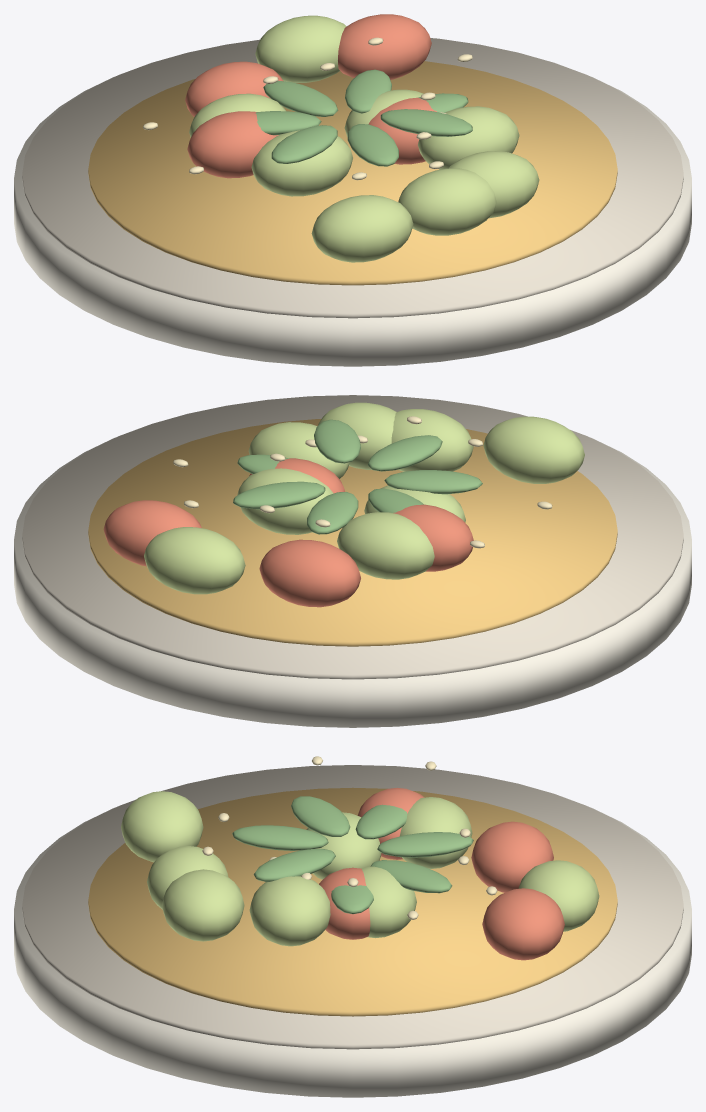
The model's file is mise-plated-blender-candidate.glb.
3 renders of one model, top to bottom at view 1: azimuth 30°, elevation 25°; view 2: azimuth 150°, elevation 25°; view 3: azimuth 270°, elevation 25°, orthographic.
Visible parts, largest first — view 1: Sauce centre, Raised plate lip, Ceramic plate, Ingredient 07, Ingredient 02, Ingredient 03, Ingredient 11, Ingredient 09, Ingredient 04, Ingredient 05, Ingredient 10, Ingredient 06 (+10 smaller); view 2: Sauce centre, Raised plate lip, Ceramic plate, Ingredient 07, Ingredient 11, Ingredient 06, Ingredient 01, Ingredient 03, Ingredient 02, Ingredient 09, Ingredient 08, Ingredient 10 (+10 smaller); view 3: Raised plate lip, Sauce centre, Ceramic plate, Ingredient 03, Ingredient 10, Ingredient 05, Ingredient 07, Ingredient 06, Ingredient 11, Ingredient 01, Ingredient 08, Ingredient 02 (+10 smaller).
Part boxes in pixels (x1,y1,x2,y2): Sauce centre: (88, 61, 617, 285); Raised plate lip: (22, 38, 683, 318); Ceramic plate: (14, 76, 691, 366); Ingredient 07: (311, 195, 413, 262); Ingredient 02: (398, 168, 496, 235); Ingredient 03: (338, 14, 431, 79); Ingredient 11: (255, 15, 346, 82); Ingredient 09: (187, 111, 278, 178); Ingredient 04: (251, 130, 352, 196); Ingredient 05: (418, 106, 519, 169); Ingredient 10: (448, 151, 539, 218); Ingredient 06: (185, 61, 283, 116); Sauce centre: (88, 419, 617, 646); Raised plate lip: (22, 395, 683, 679); Ceramic plate: (14, 437, 691, 727); Ingredient 07: (483, 416, 584, 483); Ingredient 11: (144, 527, 245, 594); Ingredient 06: (259, 539, 360, 607); Ingredient 01: (337, 512, 434, 579); Ingredient 03: (103, 500, 201, 566); Ingredient 02: (391, 409, 473, 471); Ingredient 09: (393, 504, 473, 571); Ingredient 08: (237, 468, 333, 534); Ingredient 10: (318, 402, 396, 469); Raised plate lip: (22, 765, 683, 1049); Sauce centre: (88, 787, 617, 1016); Ceramic plate: (14, 807, 691, 1097); Ingredient 03: (482, 888, 564, 960); Ingredient 10: (162, 869, 244, 941); Ingredient 05: (249, 876, 330, 946); Ingredient 07: (121, 791, 203, 862); Ingredient 06: (471, 821, 553, 892); Ingredient 11: (518, 860, 599, 931); Ingredient 01: (399, 797, 472, 868); Ingredient 08: (362, 866, 416, 938); Ingredient 02: (147, 846, 228, 909).
Size of the model in its own units: 1.64 by 0.316 by 1.64.
